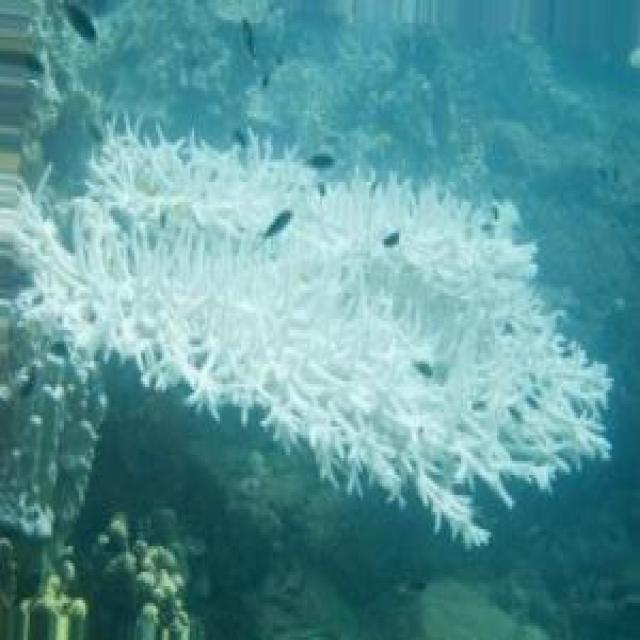bleached coral: (29, 133, 609, 544)
